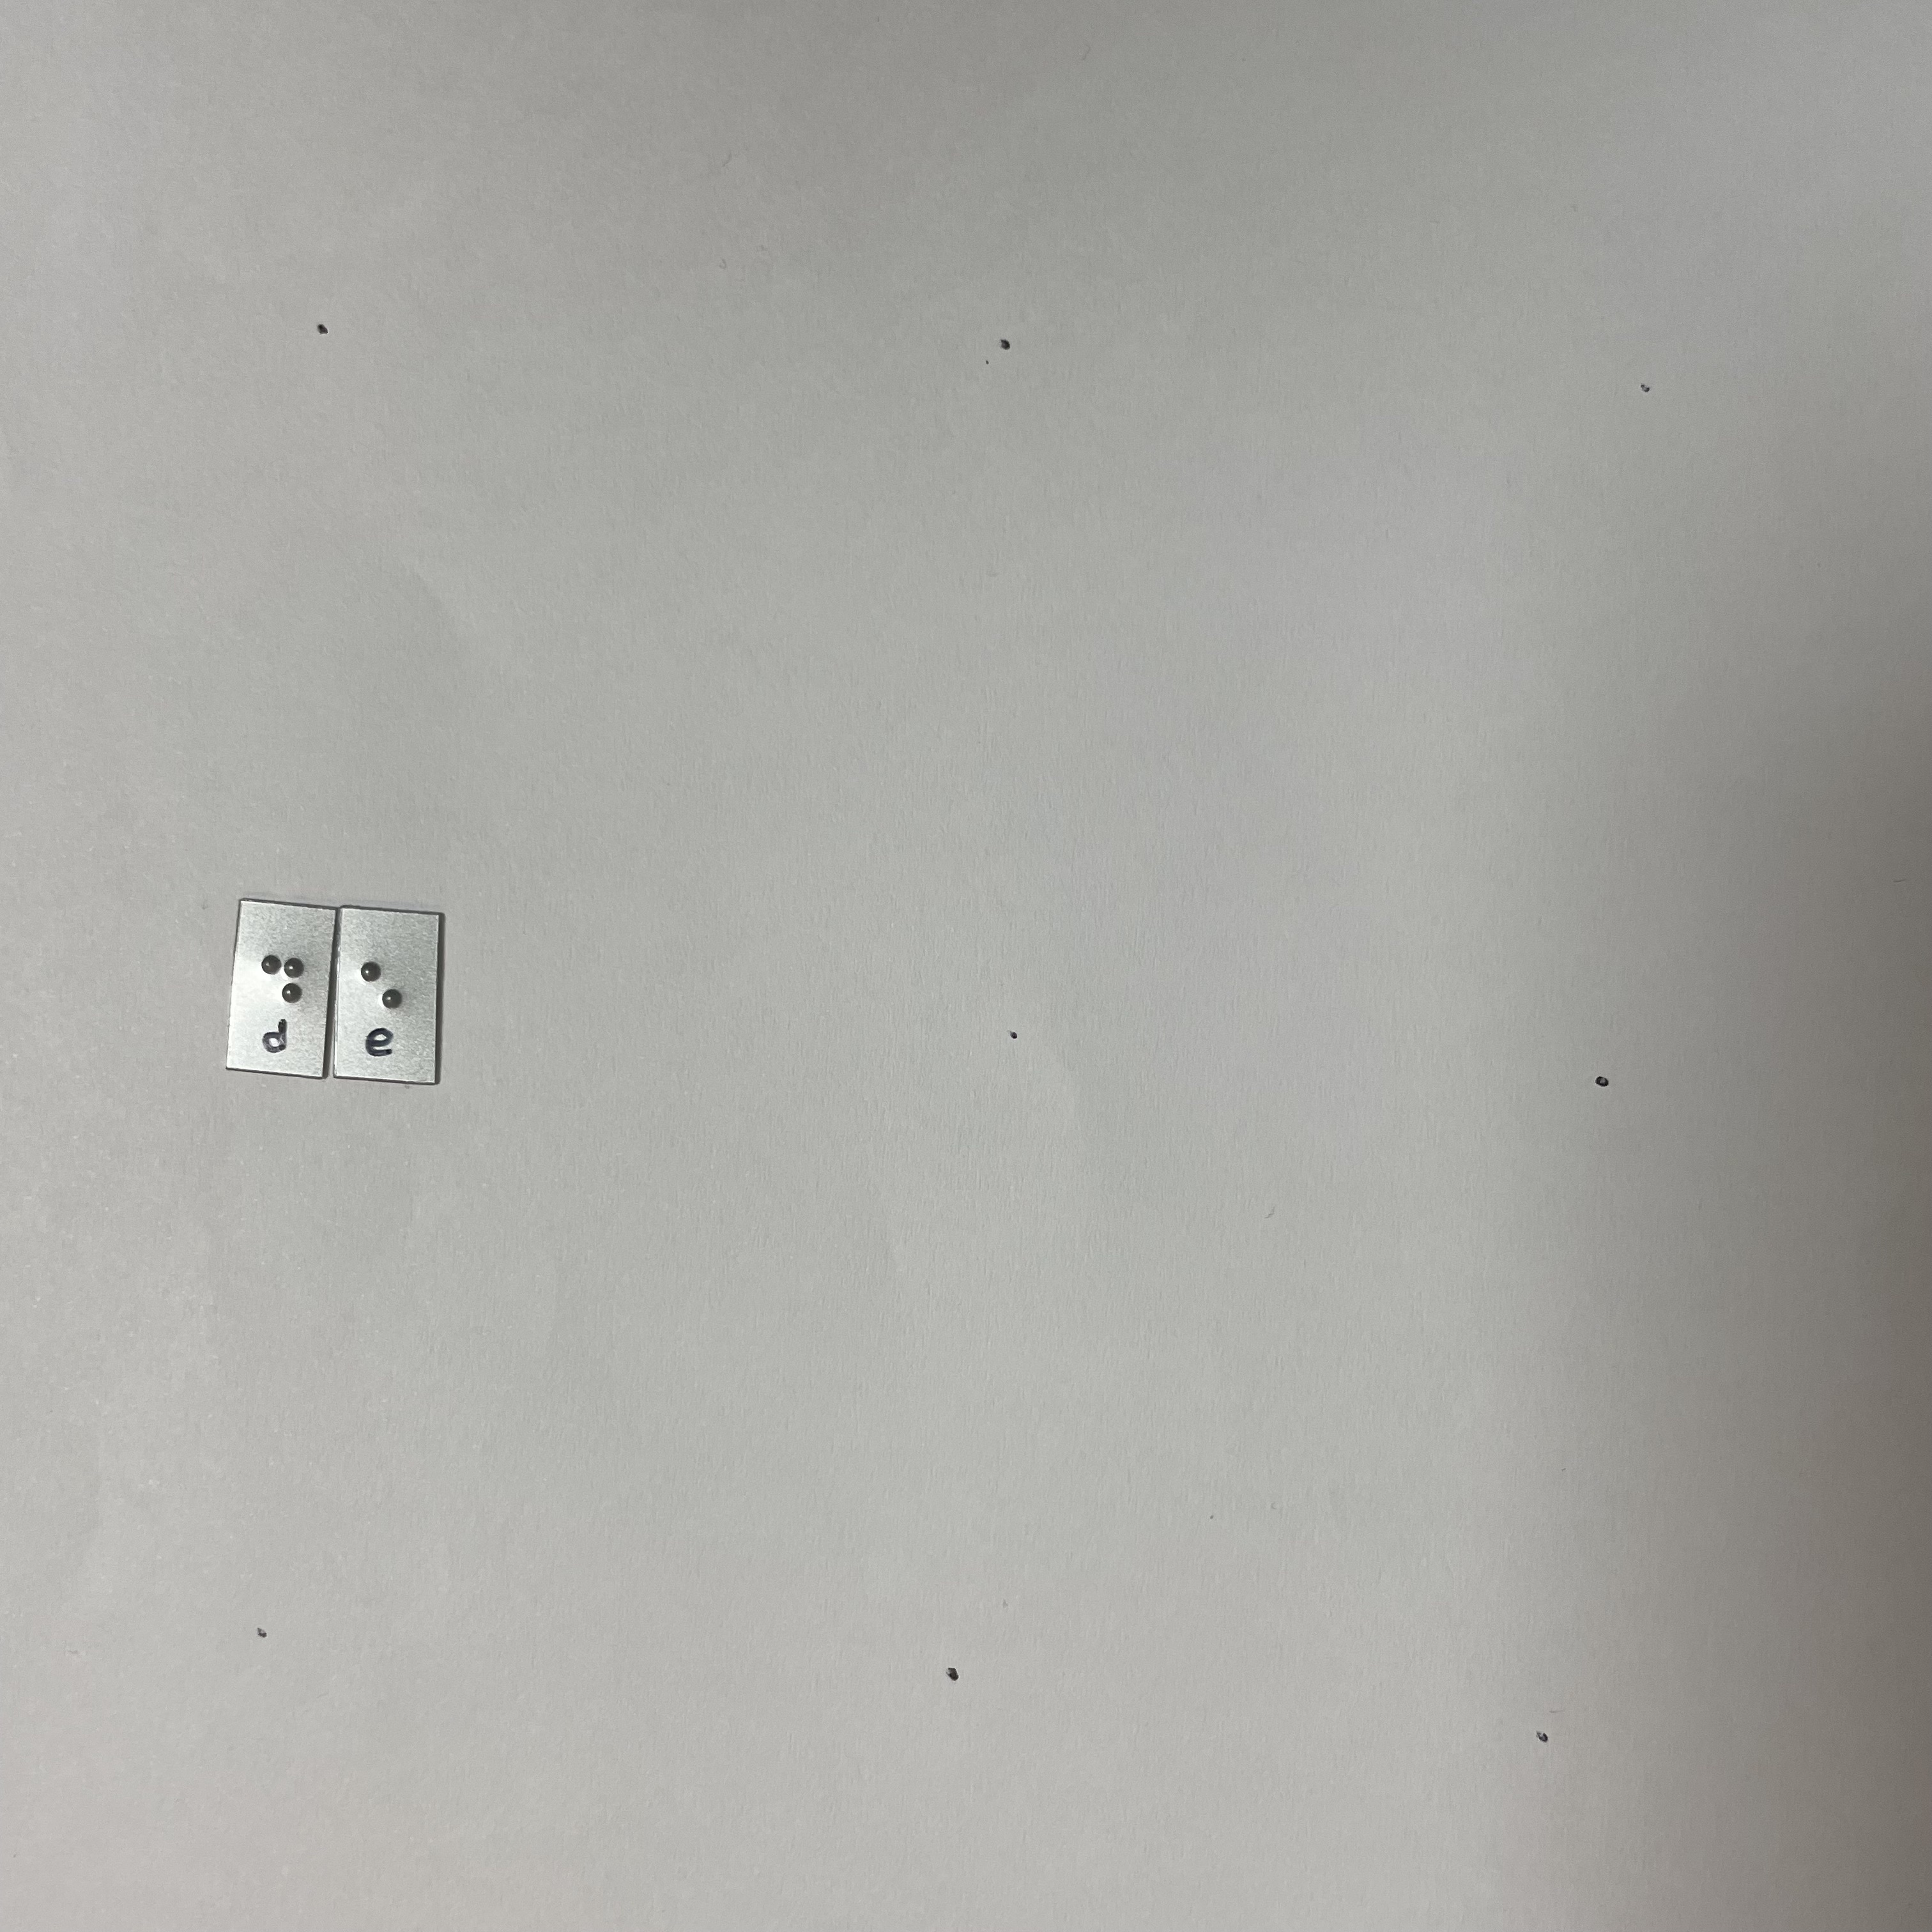d: (256, 944, 310, 1034)
e: (355, 951, 412, 1034)
